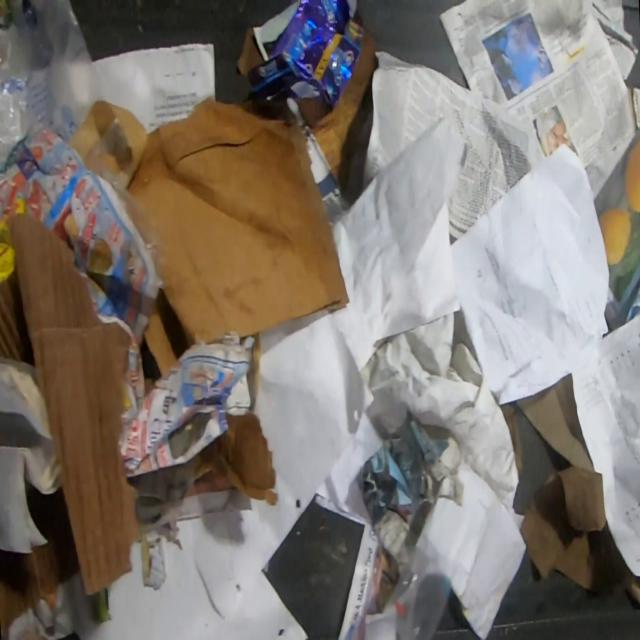cardboard: (127, 92, 351, 380), (0, 210, 144, 597), (293, 30, 381, 194), (242, 0, 361, 110), (0, 481, 80, 635), (65, 100, 148, 188), (236, 27, 267, 80)
soft_plastic: (0, 0, 99, 178), (88, 118, 168, 292), (378, 540, 452, 639), (130, 454, 198, 523)
